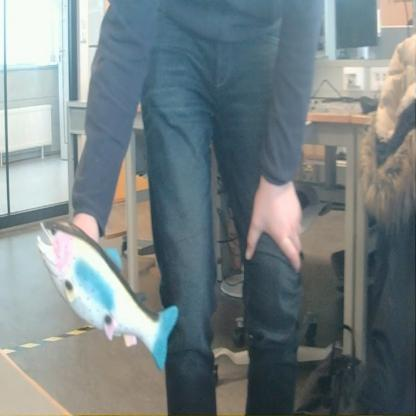rubberfish: (35, 209, 180, 376)
